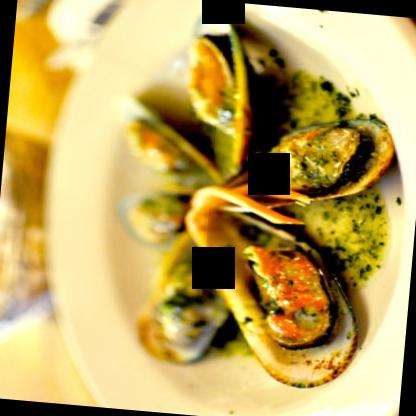mussel: (171, 195, 372, 396), (226, 110, 394, 213)
